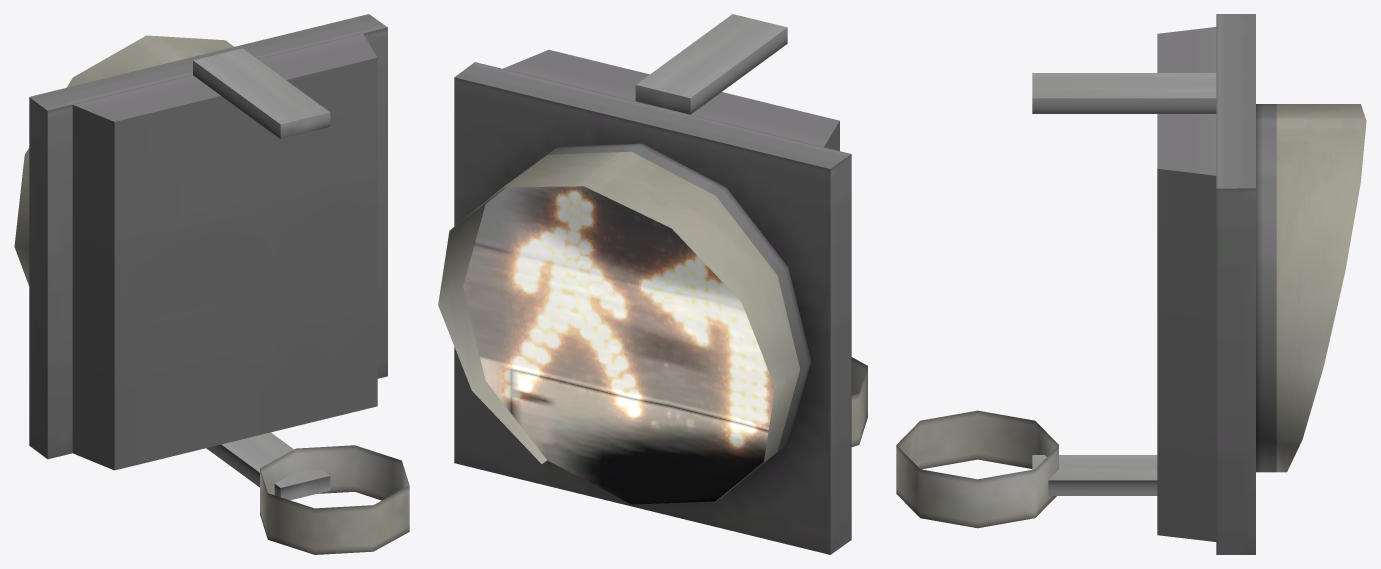
File: section_pedestrian_inv.fbx
3 views of the same model, side by side, from view 1: azimuth 30°, elevation 25°; view 2: azimuth 150°, elevation 25°; view 3: azimuth 270°, elevation 25° (orthographic). The views are drawn at different scales.
Parts seen in each view (by area): view 1: Vis1 01; view 2: Vis1 01, Vis1 02; view 3: Vis1 01.
Part boxes in pixels (box(x1,y1,x2,y2)): Vis1 01: box(14, 14, 409, 554); Vis1 01: box(438, 14, 867, 554); Vis1 02: box(463, 186, 775, 504); Vis1 01: box(896, 14, 1366, 554).
Size of the model in its own units: 0.3254 by 0.3531 by 0.3701.
